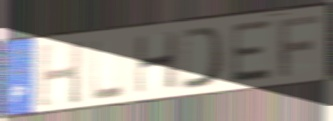D: (180, 24, 228, 92)
E: (228, 18, 274, 87)
F: (277, 13, 322, 78)
H: (37, 38, 84, 109), (134, 29, 180, 96)
L: (90, 36, 127, 103)
